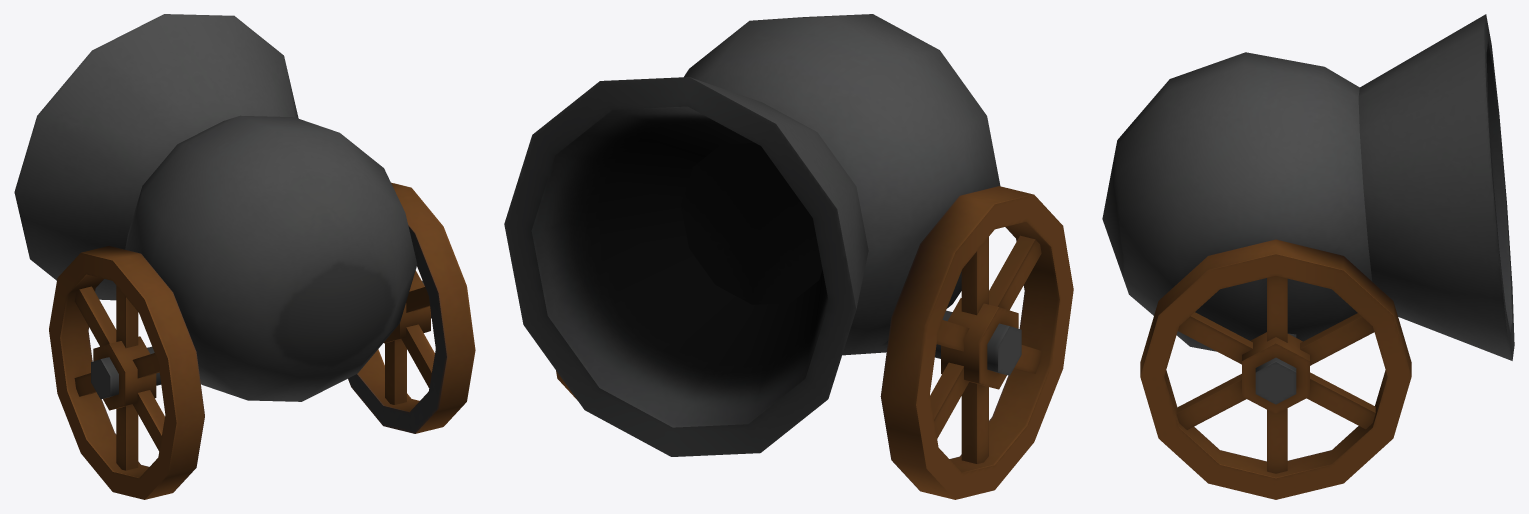
Rendered from Accessory_Pirate_Canon.fbx.
3 views of the same model, side by side, from view 1: azimuth 30°, elevation 25°; view 2: azimuth 150°, elevation 25°; view 3: azimuth 270°, elevation 25° (orthographic). The views are drawn at different scales.
Visible parts, largest first — view 1: Accessory_Pirate_Canon_01_model; view 2: Accessory_Pirate_Canon_01_model; view 3: Accessory_Pirate_Canon_01_model.
Part boxes in pixels (x1,y1,x2,y2): Accessory_Pirate_Canon_01_model: (14,14,475,499); Accessory_Pirate_Canon_01_model: (504,14,1073,499); Accessory_Pirate_Canon_01_model: (1102,14,1514,499).
Size of the model in its own units: 4.32 by 4.72 by 4.49.
